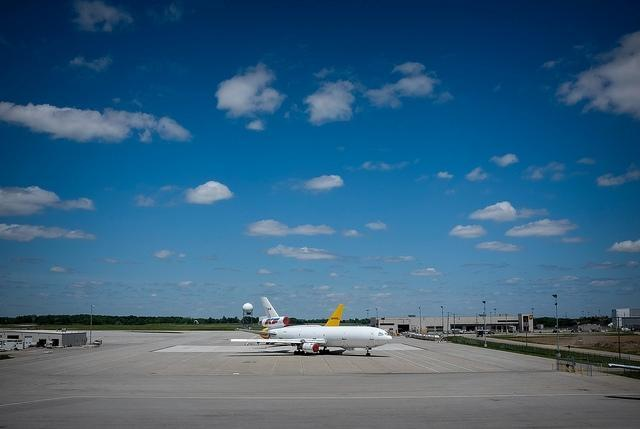truck: (93, 339, 103, 345)
